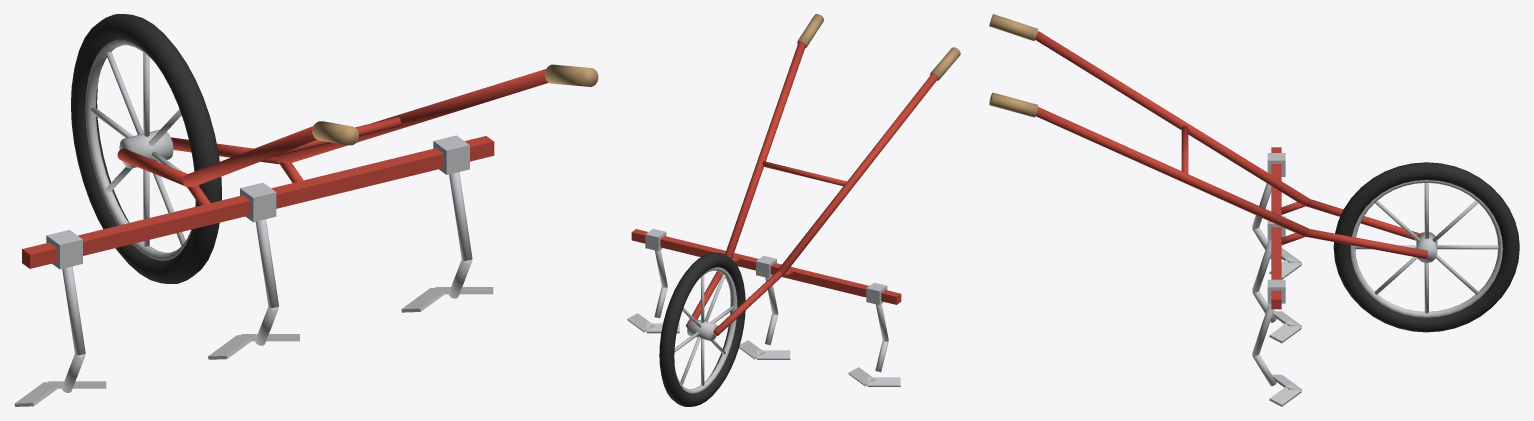
Rendered from MultiRowWheelHoe.fbx.
3 renders of one model, left to right at view 1: azimuth 30°, elevation 25°; view 2: azimuth 150°, elevation 25°; view 3: azimuth 270°, elevation 25°, orthographic. The views are drawn at different scales.
Visible parts, largest first — view 1: HoeBody, HoeWheel; view 2: HoeBody, HoeWheel; view 3: HoeBody, HoeWheel.
Part boxes in pixels (x1,y1,x2,y2): HoeBody: [14, 64, 598, 406]; HoeWheel: [71, 14, 221, 283]; HoeBody: [627, 14, 960, 386]; HoeWheel: [659, 252, 745, 406]; HoeBody: [989, 14, 1427, 406]; HoeWheel: [1333, 162, 1519, 332].
Size of the model in its own units: 1.24 by 1.02 by 1.77.
